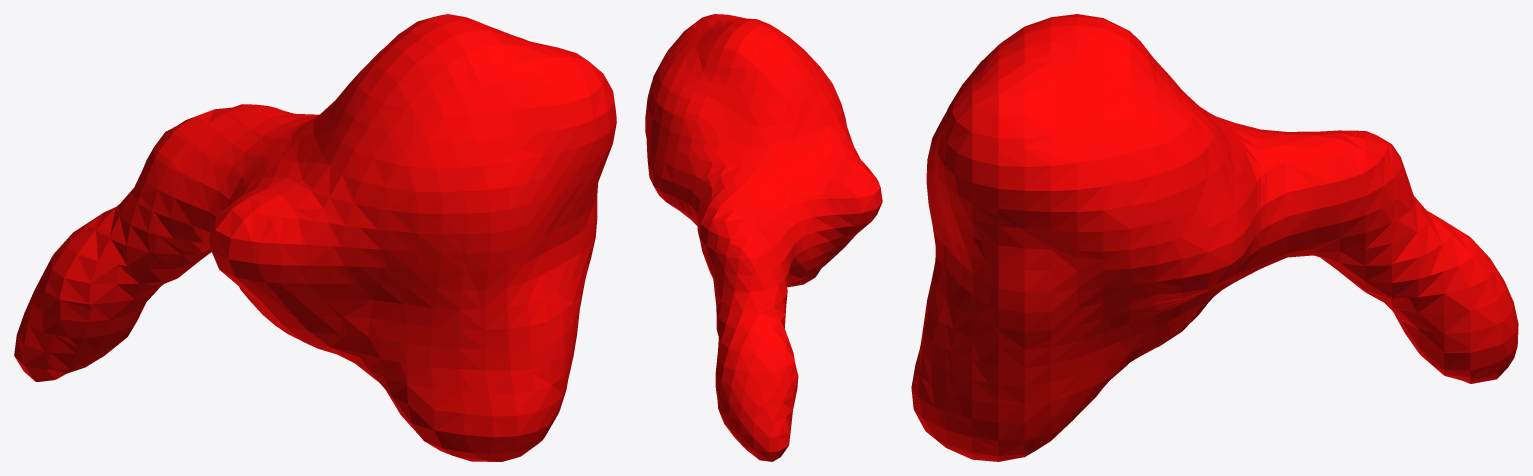
Rendered from rpmA_coarse.dae.
The picture shows the model from 3 angles, left to right: view 1: azimuth 30°, elevation 25°; view 2: azimuth 150°, elevation 25°; view 3: azimuth 270°, elevation 25°; orthographic projection. The views are drawn at different scales.
Visible parts, largest first — view 1: rpmA; view 2: rpmA; view 3: rpmA.
Part boxes in pixels (box(x1,y1,x2,y2)): rpmA: box(14, 14, 616, 461); rpmA: box(645, 14, 882, 461); rpmA: box(911, 14, 1518, 461).
Bounding box in the file's own units: 36.09 × 40.16 × 46.68.
